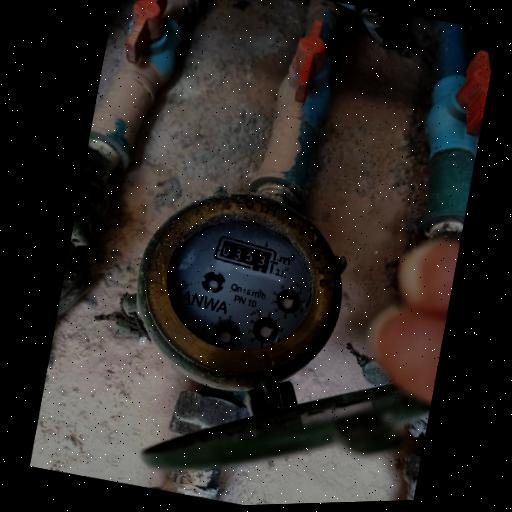0: (219, 238, 237, 260)
3: (251, 248, 272, 274), (229, 241, 246, 262)
5: (240, 244, 258, 266)
border_water_meter_number: (211, 232, 279, 276)
